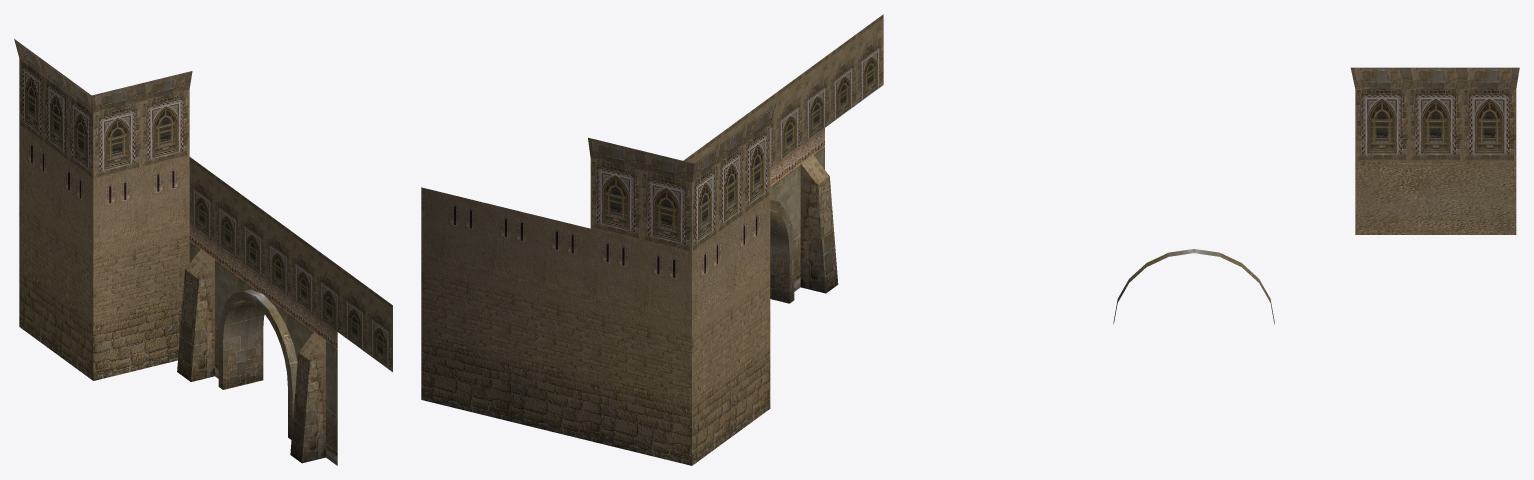
Rendered from M7Z2_WallSection3C.glb.
3 renders of one model, left to right at view 1: azimuth 30°, elevation 25°; view 2: azimuth 150°, elevation 25°; view 3: azimuth 270°, elevation 25°, orthographic. The views are drawn at different scales.
Visible parts, largest first — view 1: M7Z2_WALLSECTION3C; view 2: M7Z2_WALLSECTION3C; view 3: M7Z2_WALLSECTION3C.
Part boxes in pixels (x1,y1,x2,y2): M7Z2_WALLSECTION3C: (14,39,392,465); M7Z2_WALLSECTION3C: (421,14,883,465); M7Z2_WALLSECTION3C: (1113,67,1519,324).
Bounding box in the file's own units: 16.24 × 17.19 × 30.17.
Materials: 8 (8 with a texture image).
